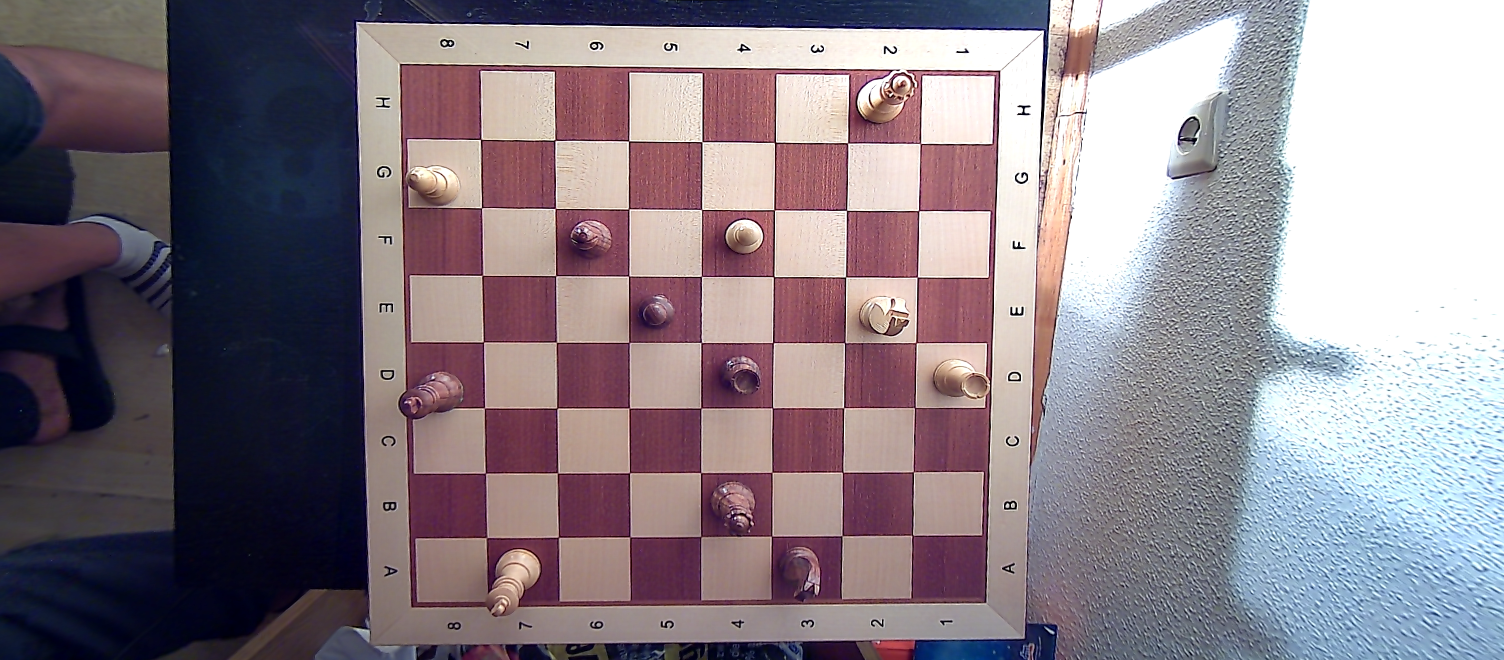black-bishop: (566, 218, 615, 259)
black-king: (396, 366, 466, 428)
black-knight: (779, 544, 830, 603)
black-pawn: (638, 292, 676, 334)
black-queen: (709, 478, 757, 536)
black-rook: (716, 352, 763, 397)
white-bishop: (402, 160, 461, 207)
white-king: (481, 546, 542, 619)
white-knight: (856, 288, 912, 342)
white-pawn: (719, 215, 765, 260)
white-queen: (856, 69, 918, 123)
white-rook: (928, 352, 994, 405)
